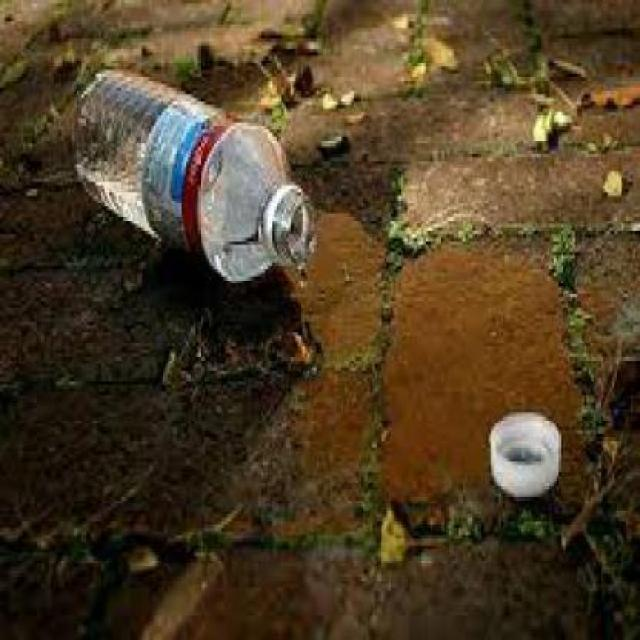Drinking: (66, 63, 320, 294)
